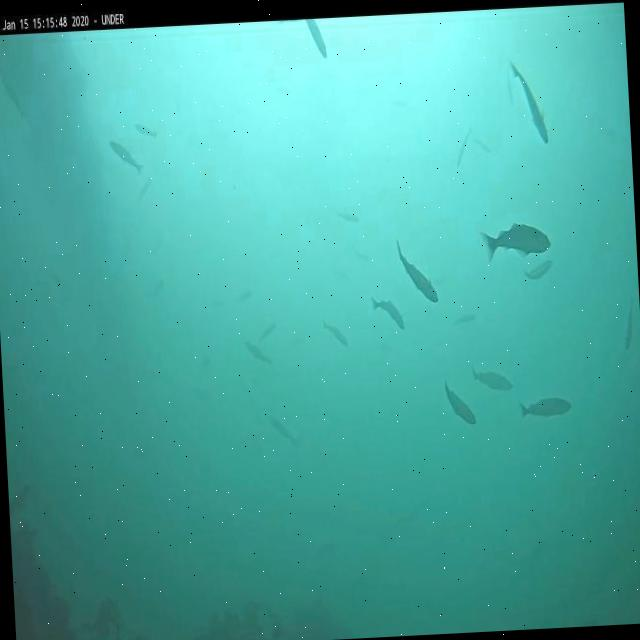fish: (512, 61, 550, 149), (482, 220, 552, 265), (396, 241, 439, 307), (445, 379, 476, 426), (107, 139, 144, 174), (0, 68, 25, 119), (371, 296, 406, 330), (519, 396, 573, 418), (472, 364, 514, 392), (306, 20, 330, 59), (622, 298, 637, 350), (269, 418, 296, 446), (456, 126, 474, 165), (325, 320, 348, 348), (246, 338, 272, 362), (134, 121, 160, 138), (338, 208, 360, 225), (260, 324, 279, 342), (474, 136, 491, 154), (452, 314, 477, 324)
